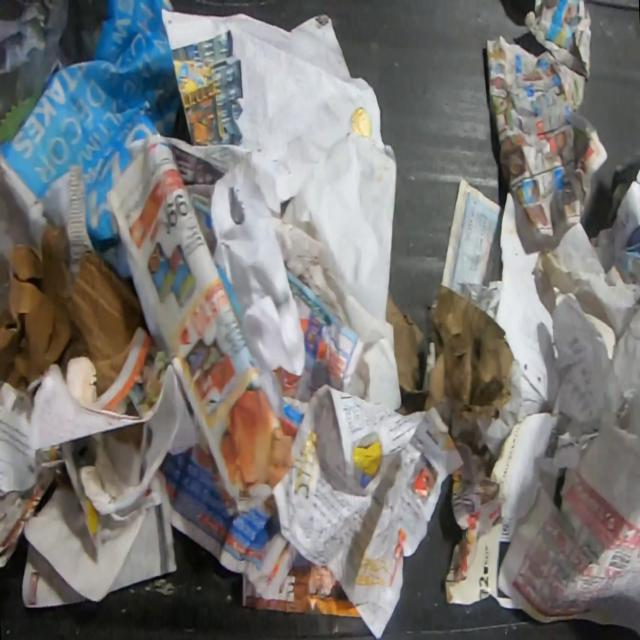cardboard: (0, 226, 151, 401), (386, 284, 514, 422)
